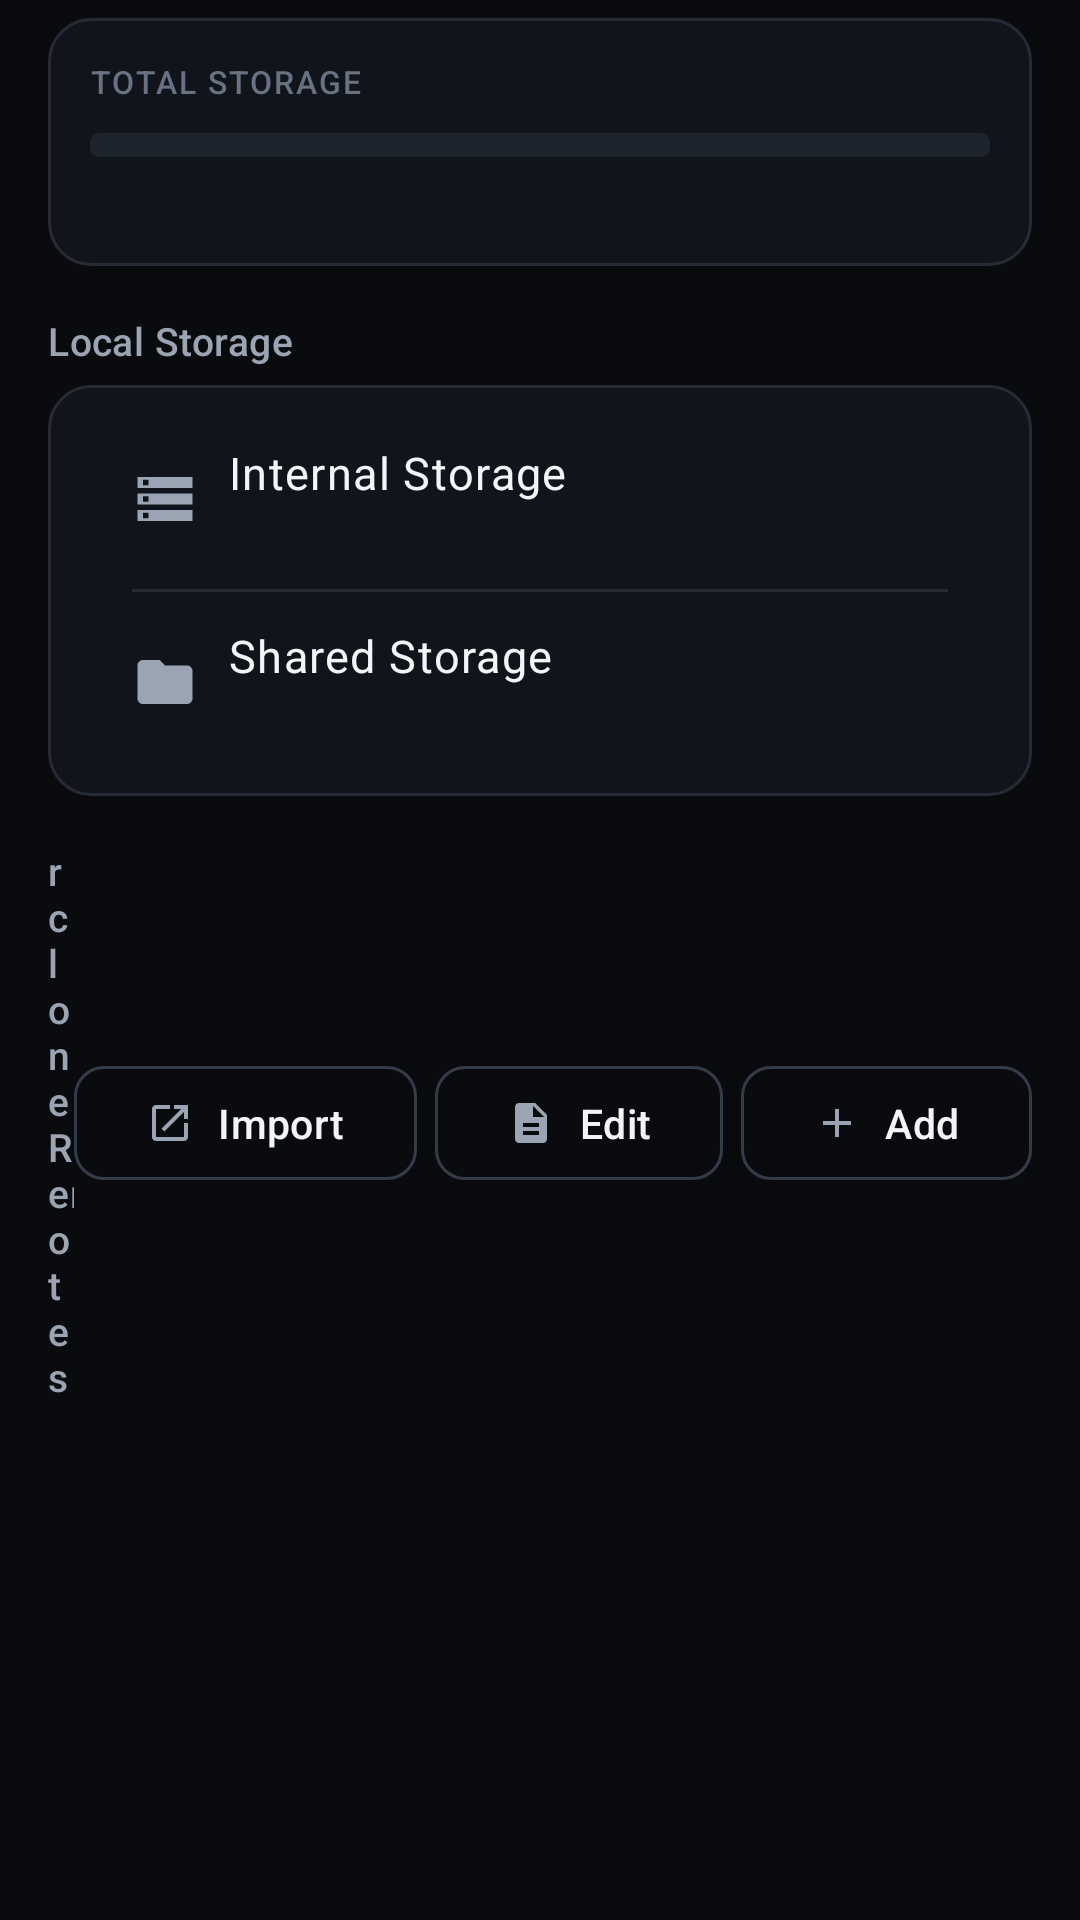

Screen size 1080w x 1920h. Icon name, then its center in pixels as point (x, y):
eq folder: point (165, 682)
eq storage: point (165, 499)
